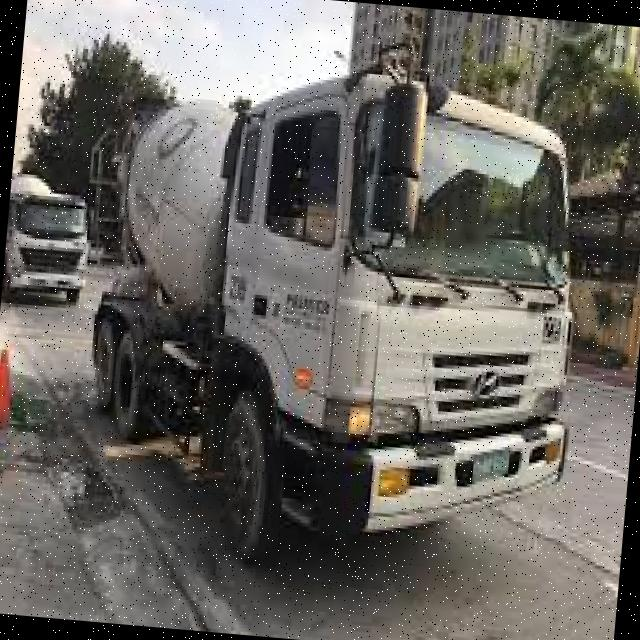Mixer Truck: (55, 14, 606, 594), (0, 165, 94, 308)
